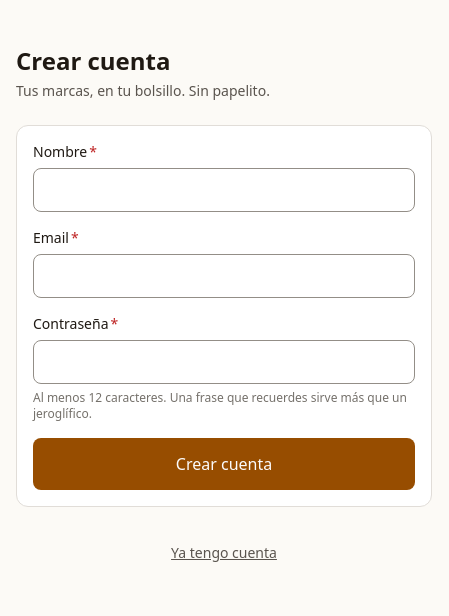
Test: crear cuenta › un email ya usado se explica, con su codigo a la vista
Type "Braian" into the field labelled "Nombre*" at (224, 190), box [33,168,415,212]
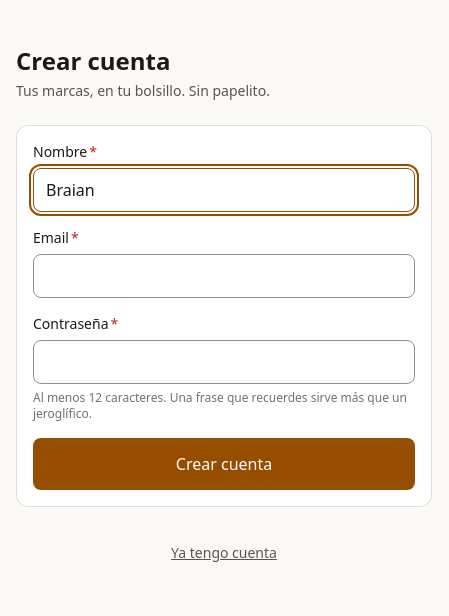
Type "braian@example.com" into the field labelled "Email*" at (224, 276), box [33,254,415,298]
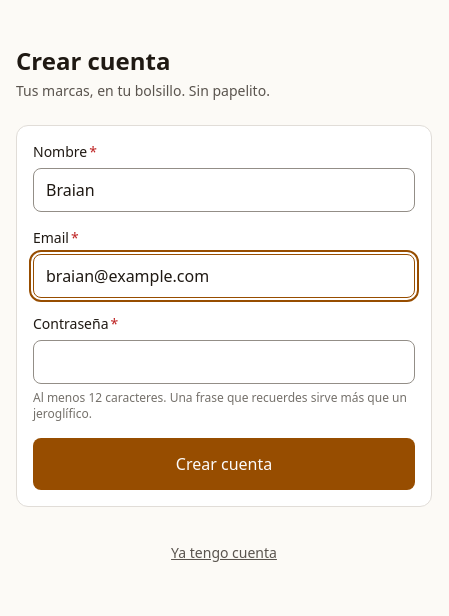
Type "una-frase-larga" into the password field labelled "Contraseña*" at (224, 362), box [33,340,415,384]
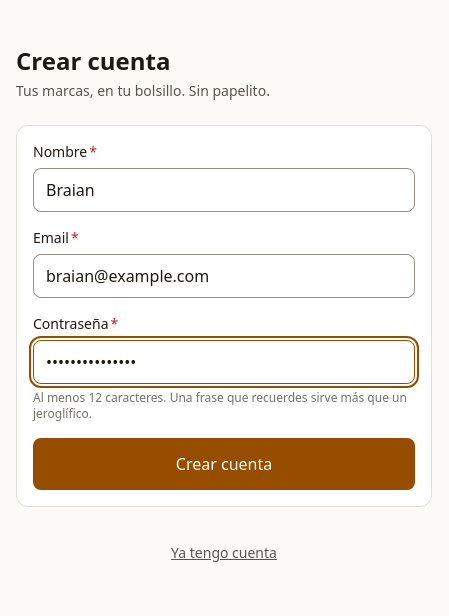
Click the button "Crear cuenta" at (224, 464), box [33,438,415,490]
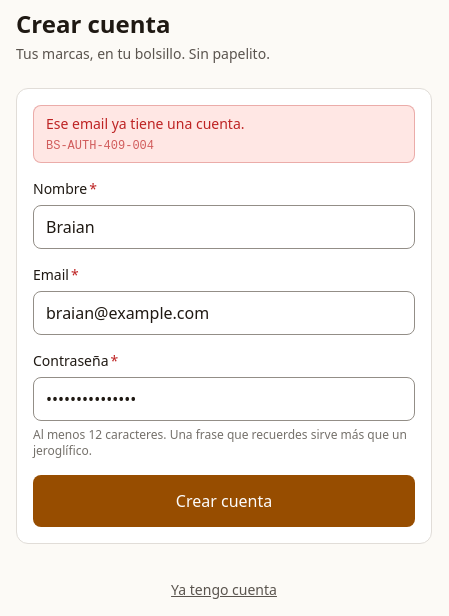
Check: the message shows "Ese email ya tiene una cuenta.", box [46,114,244,133]
Check: the text "BS-AUTH-409-004" is shown, box [46,139,154,153]
